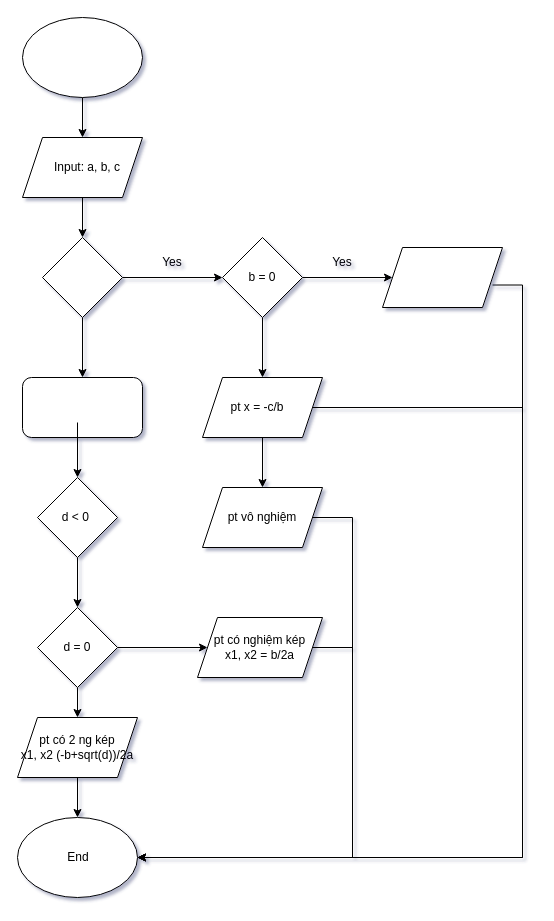
Some shapes in this 554 by 921 pixel diagram are drawn without their labels. The shapes that lost their labels are listed below. From the top down, each one's box as (x1, y1, x2, y2) in pixels, then its label:
(22, 16, 142, 98): Begin
(42, 236, 122, 318): a = 0
(382, 246, 502, 308): pth có vô số nghiệm
(22, 376, 142, 438): d = b*b -4ac
